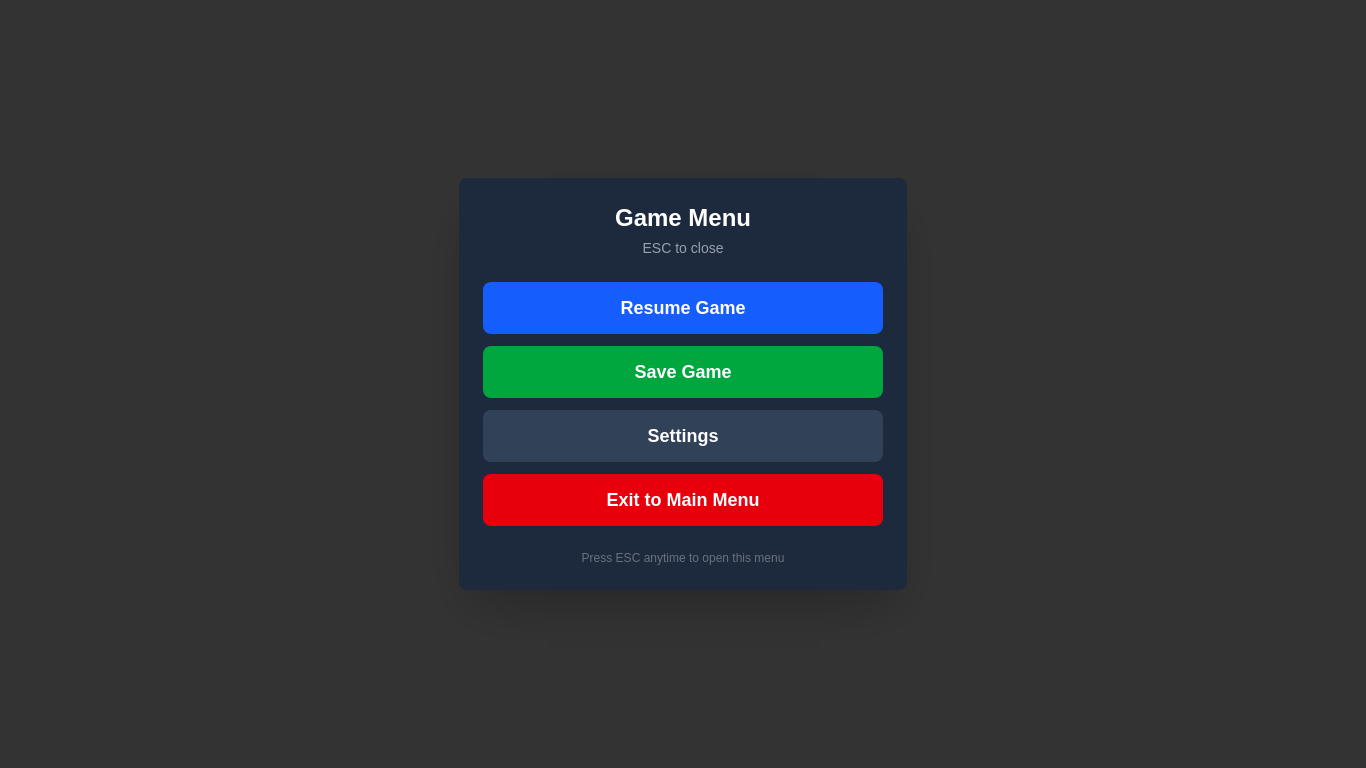
Test: InGameMenu › should show exit confirmation when Exit to Main Menu is clicked
Step 1. Click the button "Exit to Main Menu" → (683, 500), box [483,474,883,526]
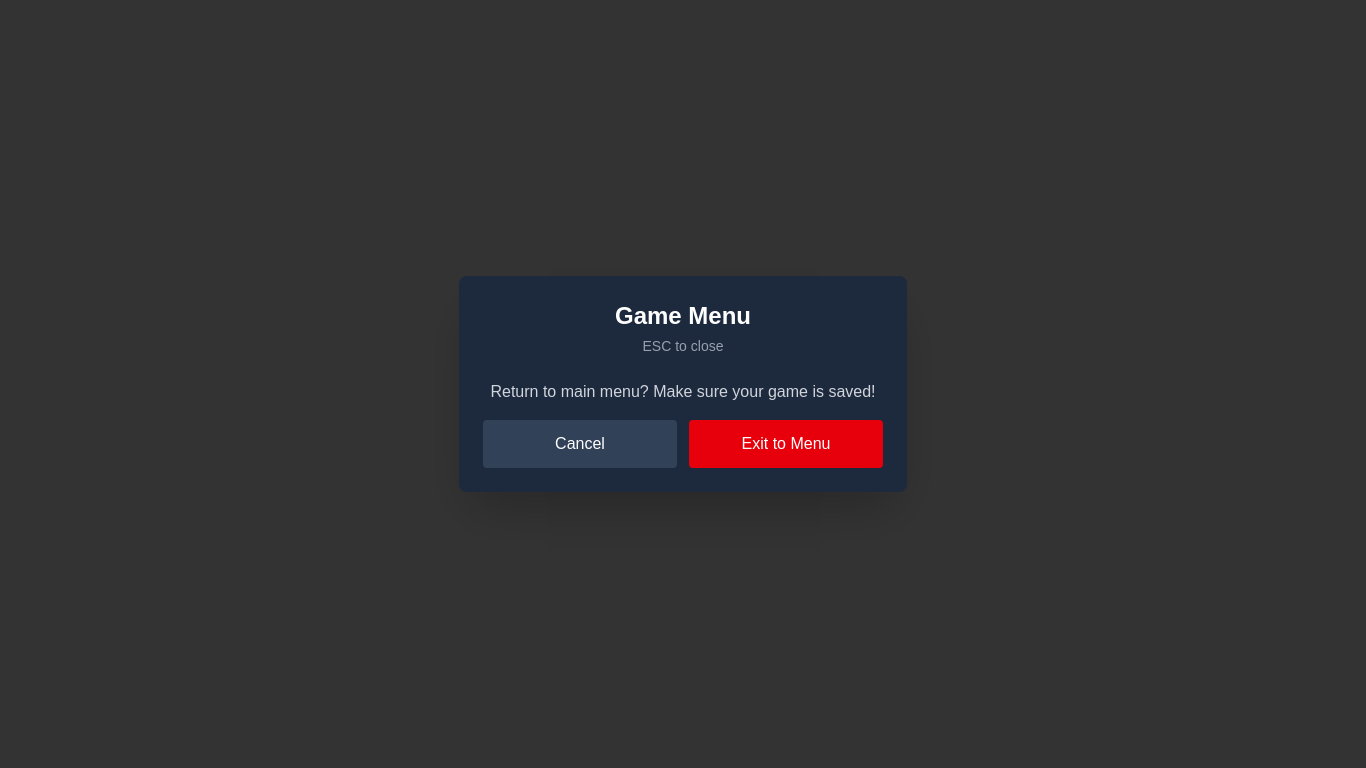
Check: the text "Return to main menu? Make sure your game is saved!" is shown, box [483,380,883,404]
Check: the button "Exit to Menu" is shown, box [689,420,883,468]
